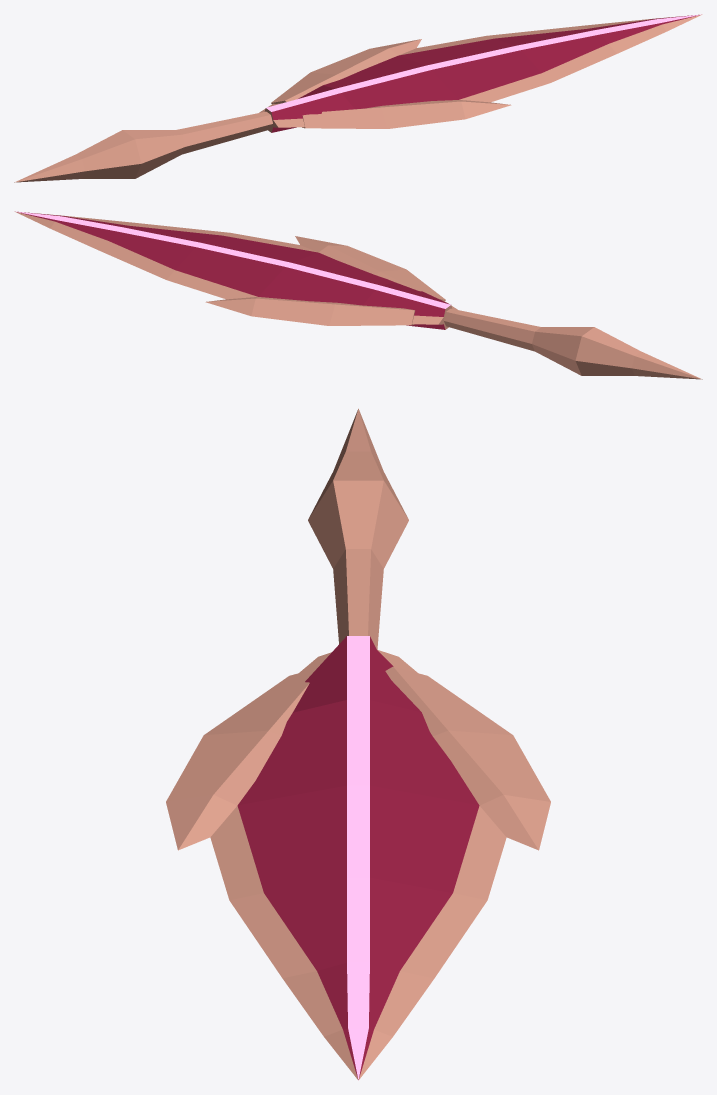
The model's file is seraph-blade.glb.
3 renders of one model, top to bottom at view 1: azimuth 30°, elevation 25°; view 2: azimuth 150°, elevation 25°; view 3: azimuth 270°, elevation 25°, orthographic. The views are drawn at different scales.
Visible parts, largest first — view 1: SERAPH_BLADE; view 2: SERAPH_BLADE; view 3: SERAPH_BLADE.
Boxes of the visible parts, box(x1,y1,x2,y2) form: SERAPH_BLADE: box(14, 14, 702, 182); SERAPH_BLADE: box(14, 211, 702, 379); SERAPH_BLADE: box(166, 408, 550, 1080).
Size of the model in its own units: 1.38 by 0.0762 by 0.3342.
